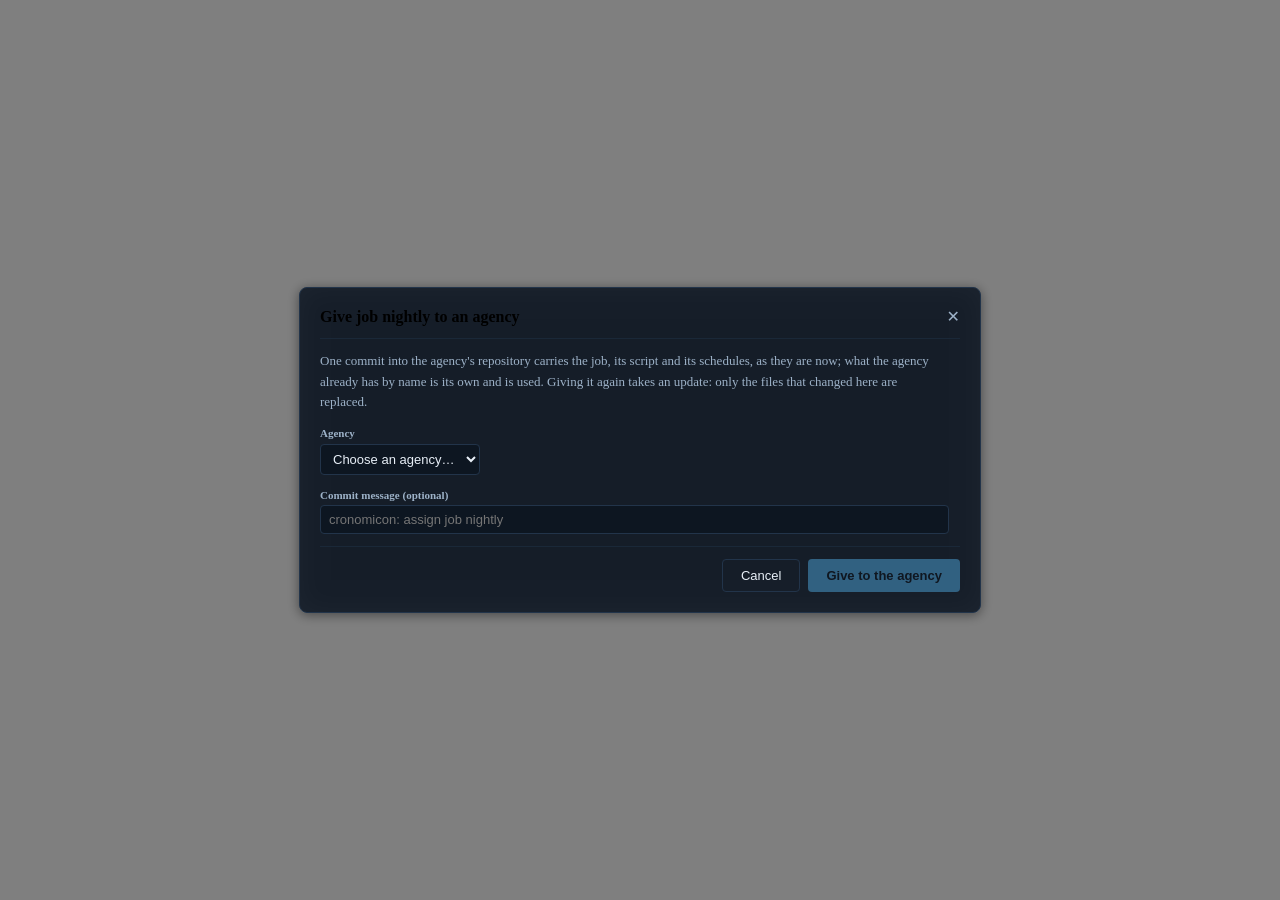
Test case: AssignDialog › shows a refusal with what it names
The width and height of the screenshot is (1280, 900).
Select "Finance" in the dropdown named "Agency" at x=400, y=459, box x1=320 y1=444 x2=480 y2=475
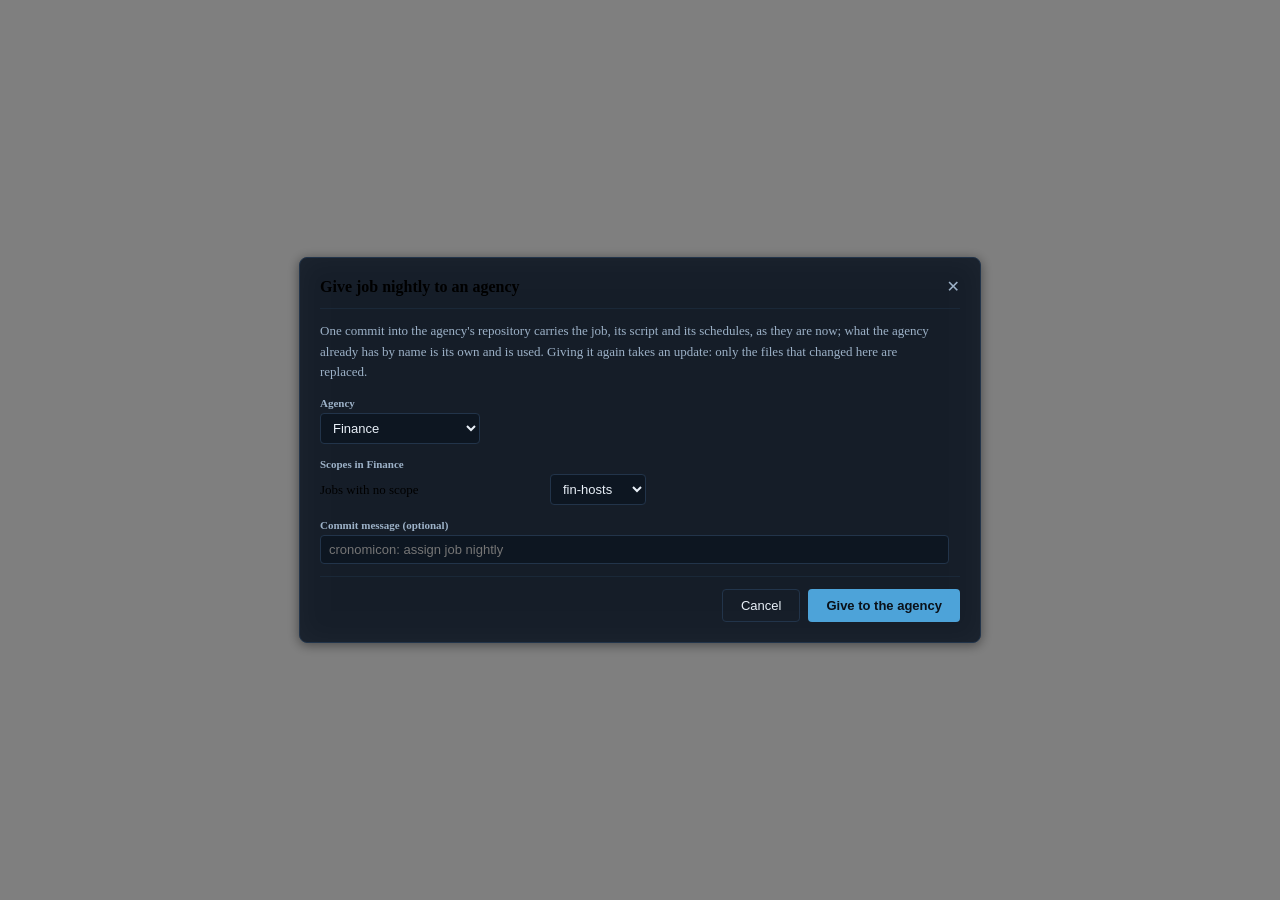
Check: the dropdown named "Scope for jobs with no scope" shows "fin-hosts", box x1=550 y1=474 x2=646 y2=505
Click the button "Give to the agency" at x=884, y=606, box x1=808 y1=589 x2=960 y2=622
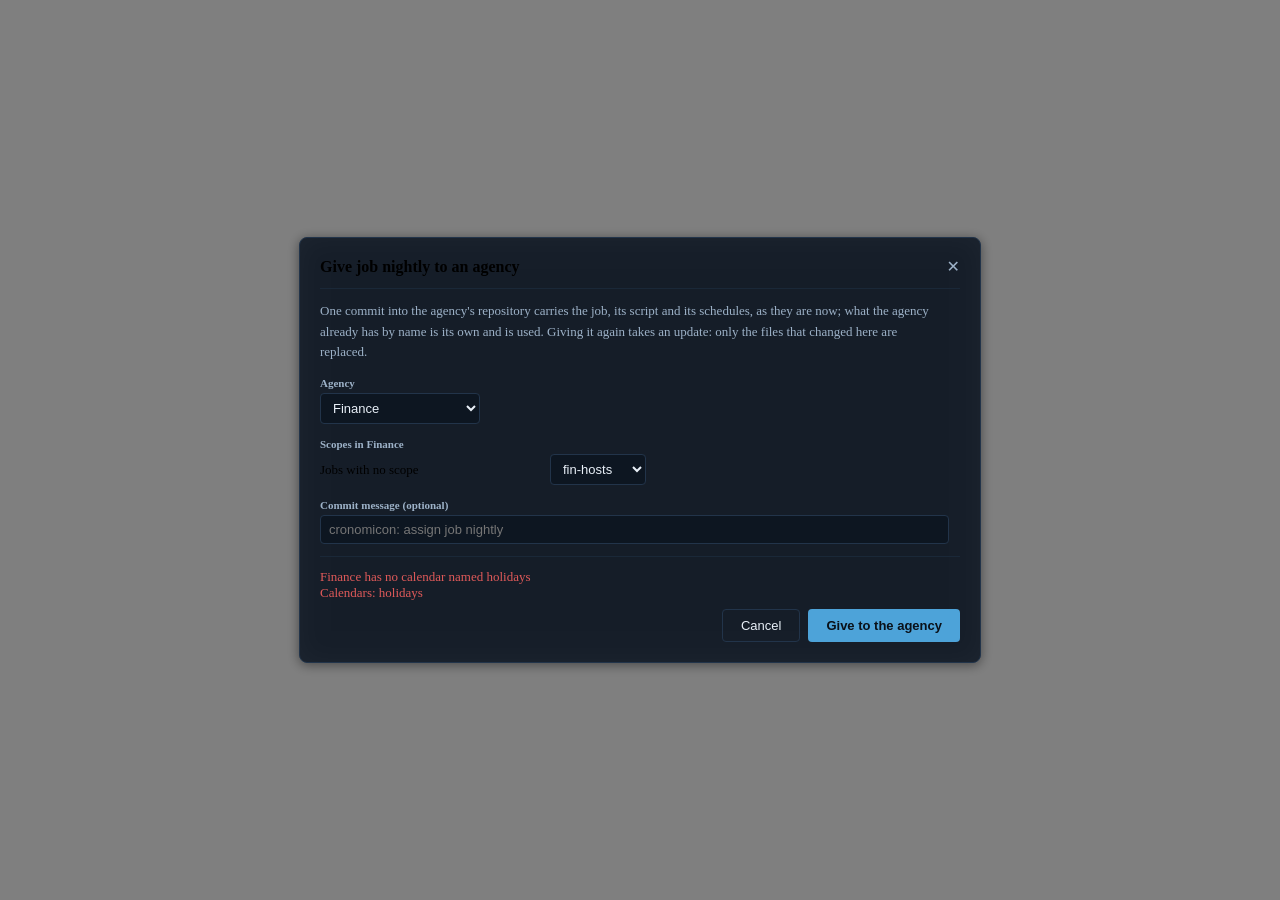
Check: the message shows "no calendar named holidays", box x1=320 y1=569 x2=530 y2=584
Check: the message shows "Calendars: holidays", box x1=320 y1=569 x2=530 y2=600
